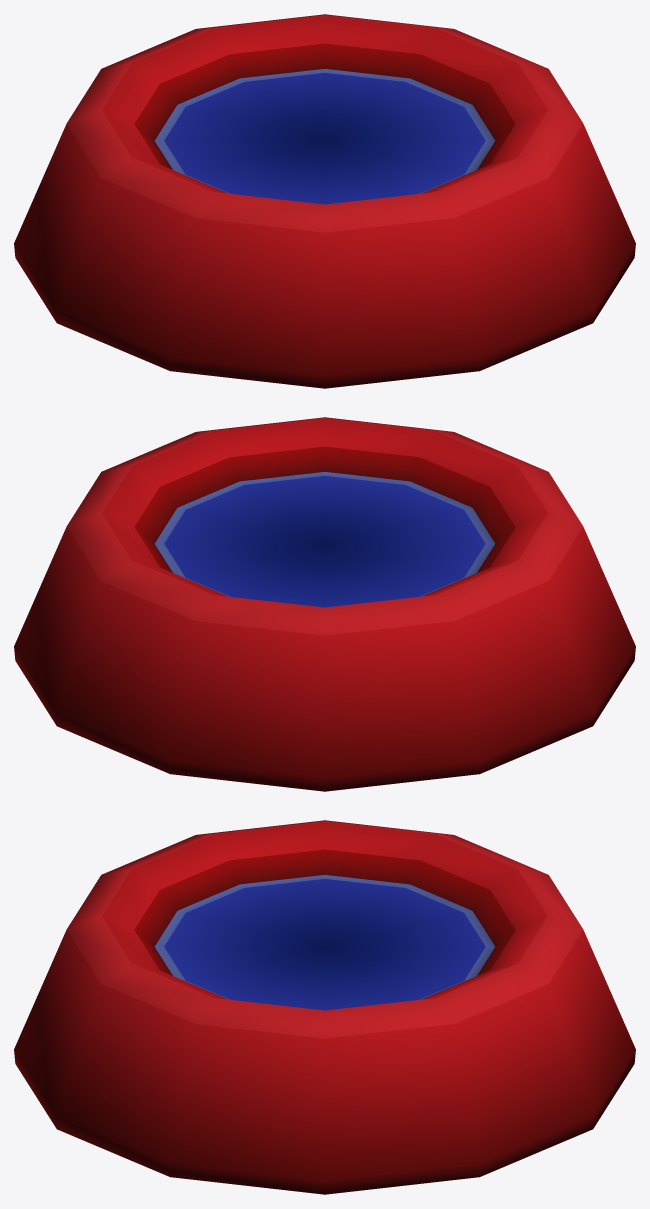
Rendered from platter_water.fbx.
The picture shows the model from 3 angles, top to bottom: view 1: azimuth 30°, elevation 25°; view 2: azimuth 150°, elevation 25°; view 3: azimuth 270°, elevation 25°; orthographic projection.
Visible parts, largest first — view 1: Plattr_water; view 2: Plattr_water; view 3: Plattr_water.
Part boxes in pixels (x1,y1,x2,y2): Plattr_water: [14, 14, 635, 388]; Plattr_water: [14, 417, 635, 791]; Plattr_water: [14, 820, 635, 1194].
Bounding box in the file's own units: 2.74 × 0.7465 × 2.74.
